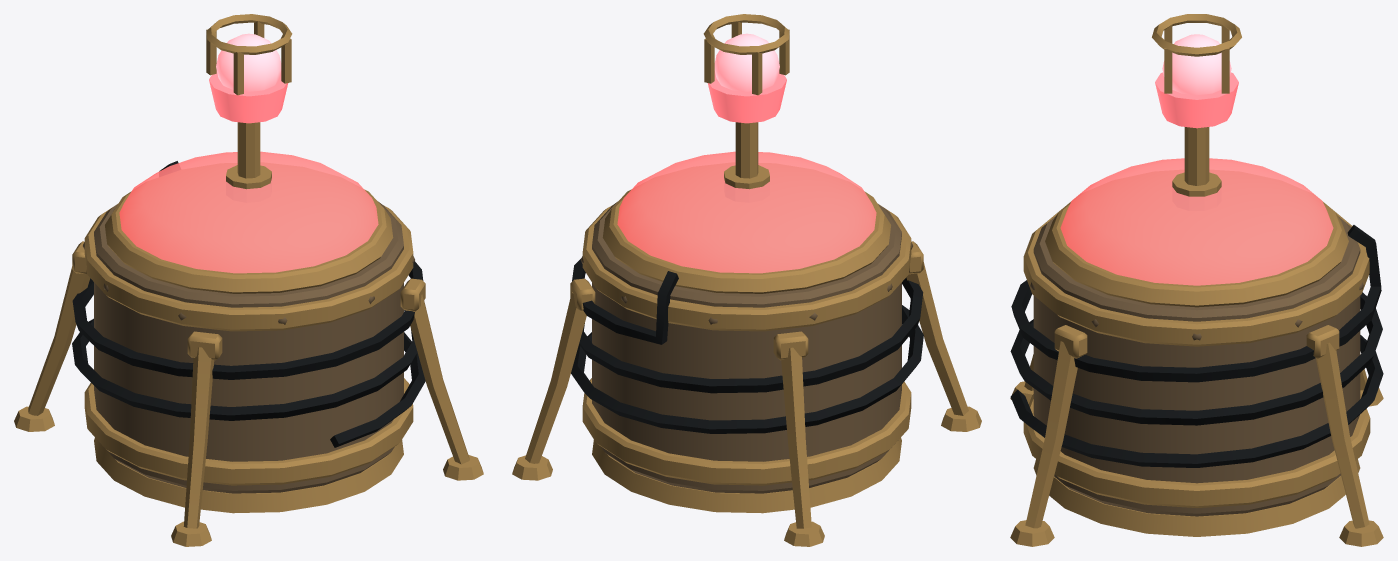
Rendered from breaker.glb.
3 views of the same model, side by side, from view 1: azimuth 30°, elevation 25°; view 2: azimuth 150°, elevation 25°; view 3: azimuth 270°, elevation 25° (orthographic). The views are drawn at different scales.
Visible parts, largest first — view 1: body_metal_brass_bright, body_metal_brass, body_glow_cap, body_rubber, body_role_luminous, lamp; view 2: body_metal_brass_bright, body_metal_brass, body_glow_cap, body_rubber, body_role_luminous, lamp; view 3: body_metal_brass_bright, body_metal_brass, body_glow_cap, body_rubber, body_role_luminous, lamp.
Part boxes in pixels (box(x1,y1,x2,y2)): body_metal_brass_bright: box(14, 14, 483, 546); body_metal_brass: box(83, 201, 414, 493); body_glow_cap: box(119, 151, 378, 273); body_rubber: box(72, 161, 425, 447); body_role_luminous: box(209, 71, 288, 123); lamp: box(216, 33, 281, 91); body_metal_brass_bright: box(512, 14, 981, 546); body_metal_brass: box(581, 201, 912, 493); body_glow_cap: box(617, 151, 876, 273); body_rubber: box(571, 258, 923, 433); body_role_luminous: box(707, 71, 786, 123); lamp: box(714, 33, 779, 91); body_metal_brass_bright: box(1010, 14, 1383, 546); body_metal_brass: box(1030, 216, 1363, 516); body_glow_cap: box(1060, 158, 1333, 285); body_rubber: box(1010, 225, 1383, 467); body_role_luminous: box(1155, 72, 1238, 128); lamp: box(1162, 34, 1231, 95).
Bounding box in the file's own units: 0.7547 × 0.975 × 0.7547.
